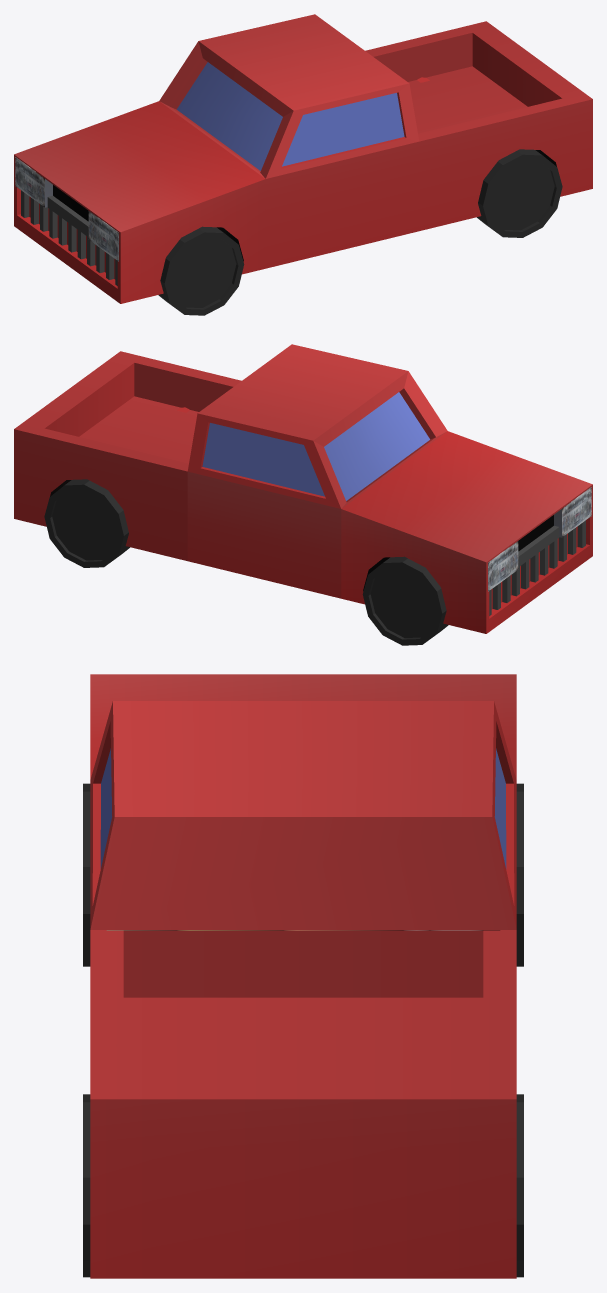
Rendered from Car.fbx.
3 views of the same model, one above another, from view 1: azimuth 30°, elevation 25°; view 2: azimuth 150°, elevation 25°; view 3: azimuth 270°, elevation 25° (orthographic). The views are drawn at different scales.
Parts seen in each view (by area): view 1: Cube.001, Cylinder.006, Cube.005, Cube.003, Cube.004; view 2: Cube.001, Cylinder.006, Cube.005, Cube.003, Cube.004; view 3: Cube.001, Cylinder.006.
Part boxes in pixels (left/top/right/bottom): Cube.001: left=14, top=14, right=592, bottom=303; Cylinder.006: left=158, top=149, right=562, bottom=315; Cube.005: left=21, top=190, right=117, bottom=285; Cube.003: left=15, top=157, right=118, bottom=261; Cube.004: left=47, top=196, right=88, bottom=237; Cube.001: left=14, top=344, right=592, bottom=633; Cylinder.006: left=44, top=479, right=448, bottom=645; Cube.005: left=489, top=520, right=585, bottom=615; Cube.003: left=488, top=487, right=591, bottom=591; Cube.004: left=518, top=526, right=559, bottom=567; Cube.001: left=90, top=674, right=516, bottom=1278; Cylinder.006: left=83, top=783, right=523, bottom=1277.
Size of the model in its own units: 1379 by 490 by 557.
Materials: 4 (2 with a texture image).
